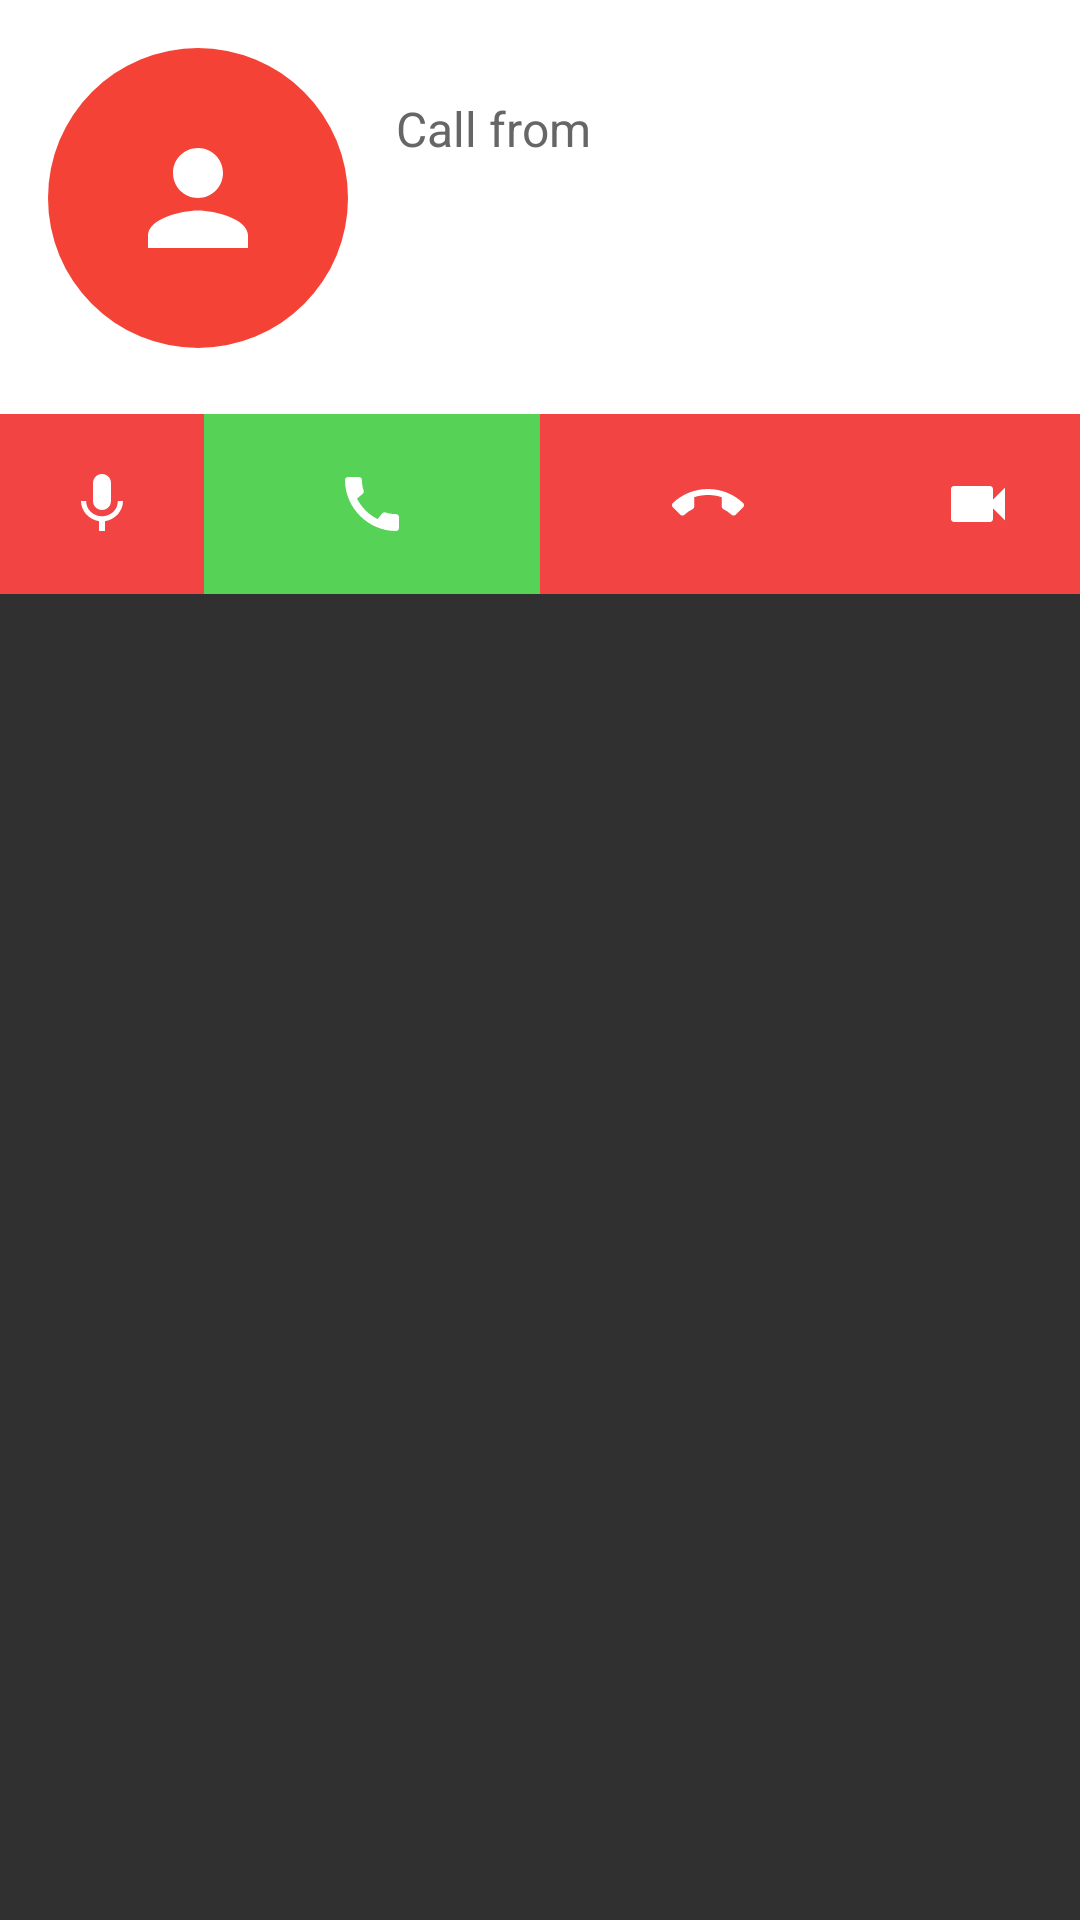

Icon click points for this 1080 x 1920 phone screenshot, format point (x, y):
call: point (372, 504)
call end: point (708, 502)
mic: point (102, 502)
person: point (198, 198)
videocam: point (978, 504)
